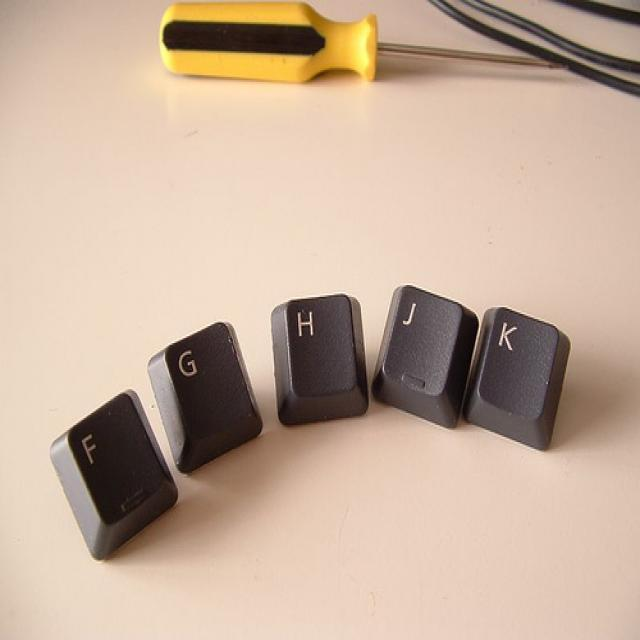screwdriver: (154, 0, 584, 82)
